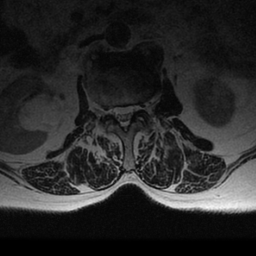CCS_normal: (121, 99, 128, 138)
LFS_stenosis: (136, 96, 144, 117)
LLS_normal: (127, 98, 136, 122)
RFS_stenosis: (103, 97, 112, 124)
RLS_normal: (112, 98, 120, 126)
